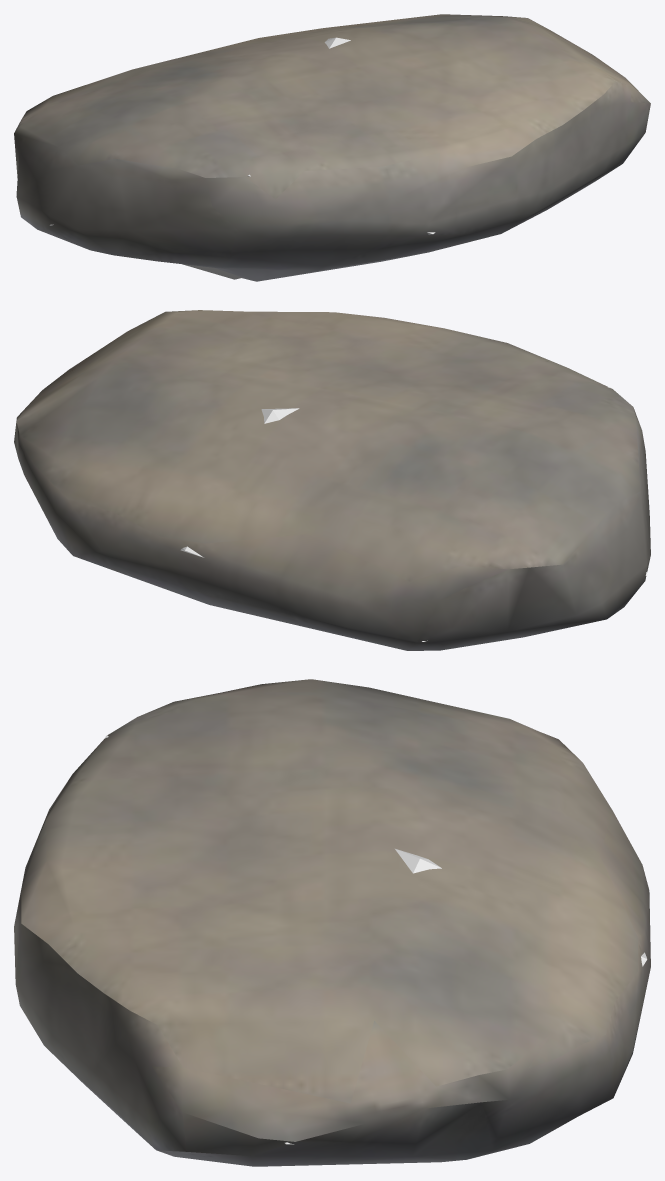
File: IO_Stone_Small_C.glb
3 renders of one model, top to bottom at view 1: azimuth 30°, elevation 25°; view 2: azimuth 150°, elevation 25°; view 3: azimuth 270°, elevation 25°, orthographic. The views are drawn at different scales.
Visible parts, largest first — view 1: IO_Stone_Small_C_LOD0, IO_Stone_Small_C_COL; view 2: IO_Stone_Small_C_LOD0; view 3: IO_Stone_Small_C_LOD0.
Part boxes in pixels (box(x1,y1,x2,y2)): IO_Stone_Small_C_LOD0: box(14, 14, 650, 281); IO_Stone_Small_C_COL: box(50, 37, 435, 279); IO_Stone_Small_C_LOD0: box(14, 310, 650, 650); IO_Stone_Small_C_LOD0: box(14, 679, 650, 1166).
Size of what is drawn, in the model's own units: 0.1604 by 0.0441 by 0.1098.
Materials: 1 (1 with a texture image).
